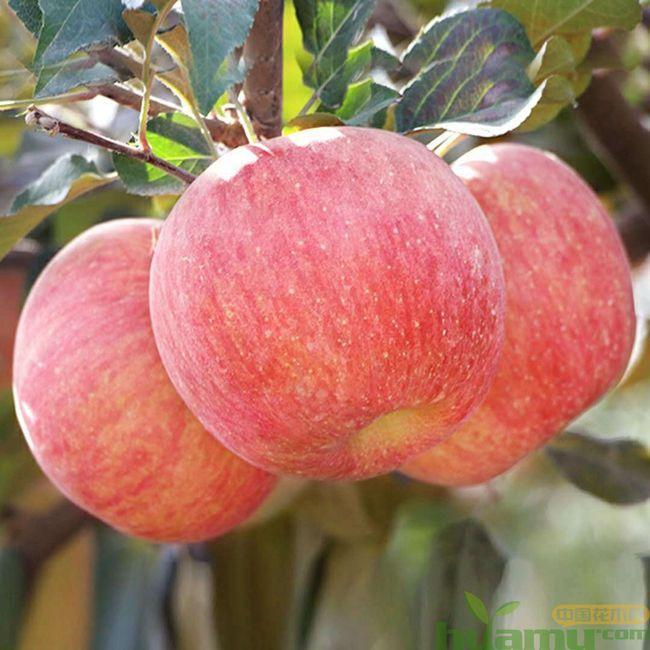apple: (146, 125, 502, 484), (13, 220, 289, 543), (391, 142, 635, 487)
